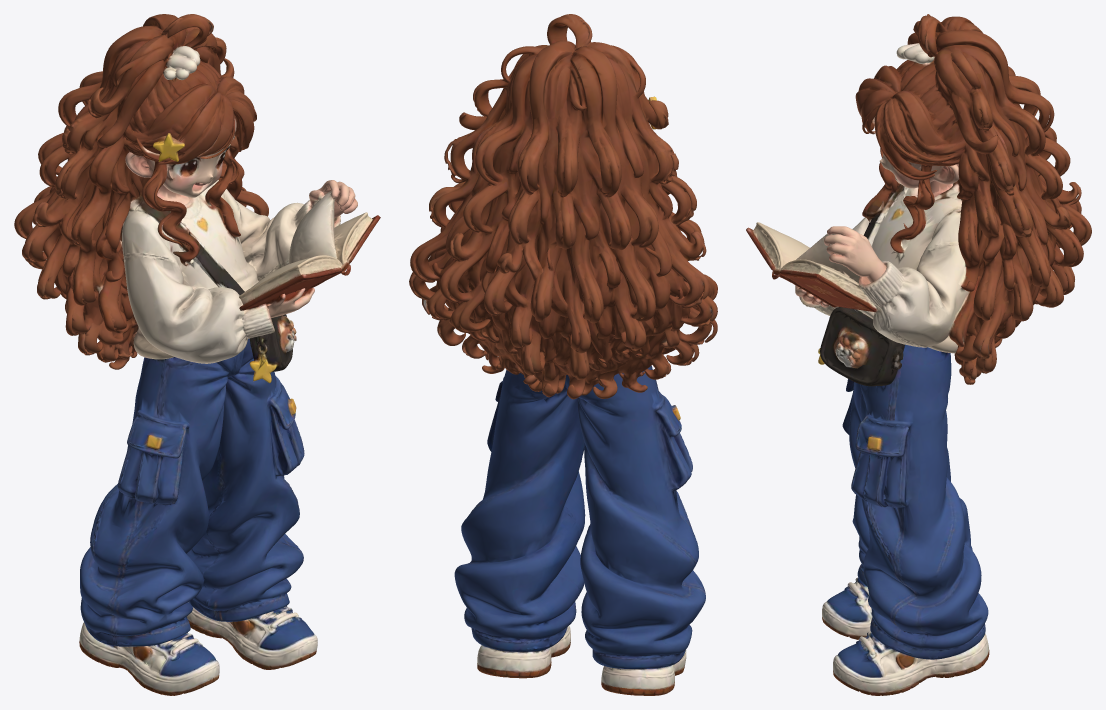
Rendered from record-anime-girl.glb.
3 views of the same model, side by side, from view 1: azimuth 30°, elevation 25°; view 2: azimuth 150°, elevation 25°; view 3: azimuth 270°, elevation 25° (orthographic). The views are drawn at different scales.
Parts seen in each view (by area): view 1: tripo_node_9dafec21-b12c-4004-816f-54c8b1719eee; view 2: tripo_node_9dafec21-b12c-4004-816f-54c8b1719eee; view 3: tripo_node_9dafec21-b12c-4004-816f-54c8b1719eee.
Boxes of the visible parts, box(x1,y1,x2,y2) form: tripo_node_9dafec21-b12c-4004-816f-54c8b1719eee: box(14, 14, 380, 695); tripo_node_9dafec21-b12c-4004-816f-54c8b1719eee: box(409, 14, 717, 695); tripo_node_9dafec21-b12c-4004-816f-54c8b1719eee: box(746, 14, 1091, 695).
Bounding box in the file's own units: 0.4553 × 0.9786 × 0.4823.
1 material, 1 textured.
